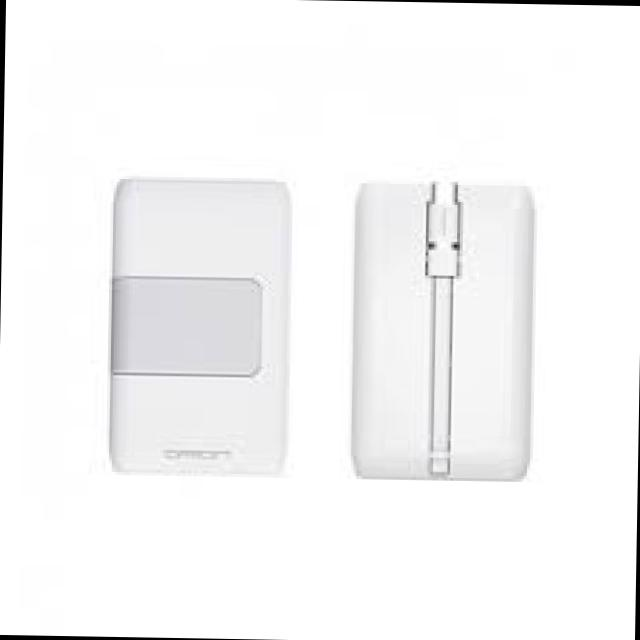power_bank: (348, 177, 540, 486), (108, 177, 296, 476)
